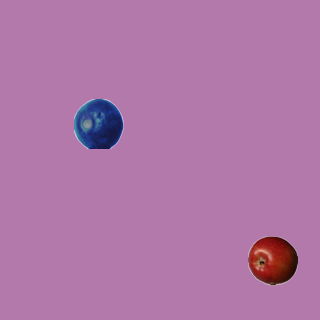Apple Braeburn: (247, 235, 297, 285)
Huckleberry: (73, 98, 123, 148)
